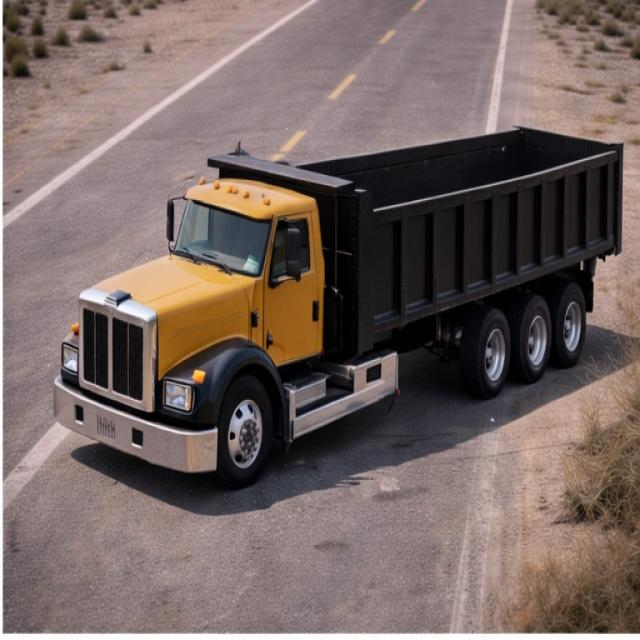trailer: (205, 123, 622, 215)
truck: (52, 97, 630, 472)
